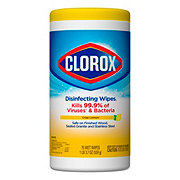Wipes: (44, 5, 136, 175)
